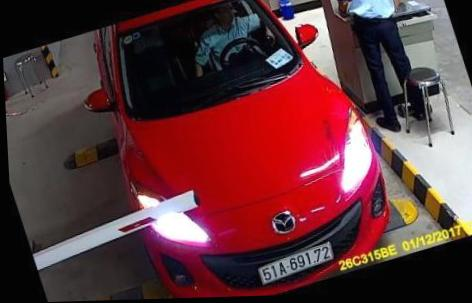License_Plate: (252, 232, 336, 286)
